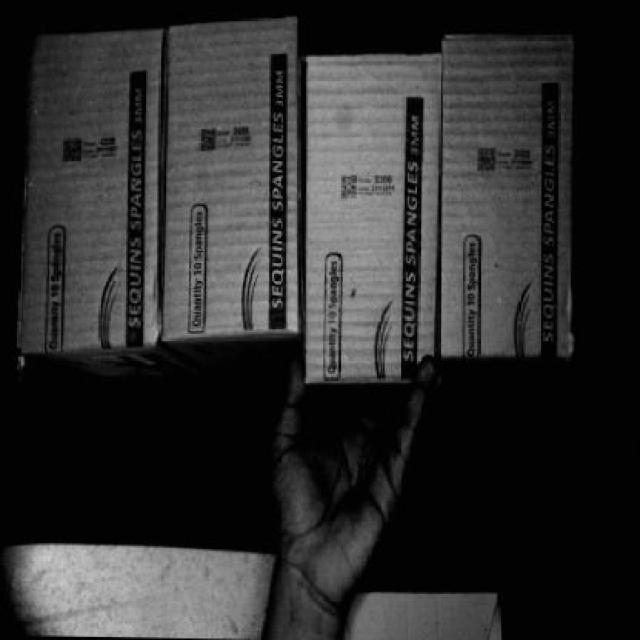cardboxes: (302, 49, 442, 382), (437, 34, 580, 352), (22, 35, 160, 354), (166, 26, 303, 346)
